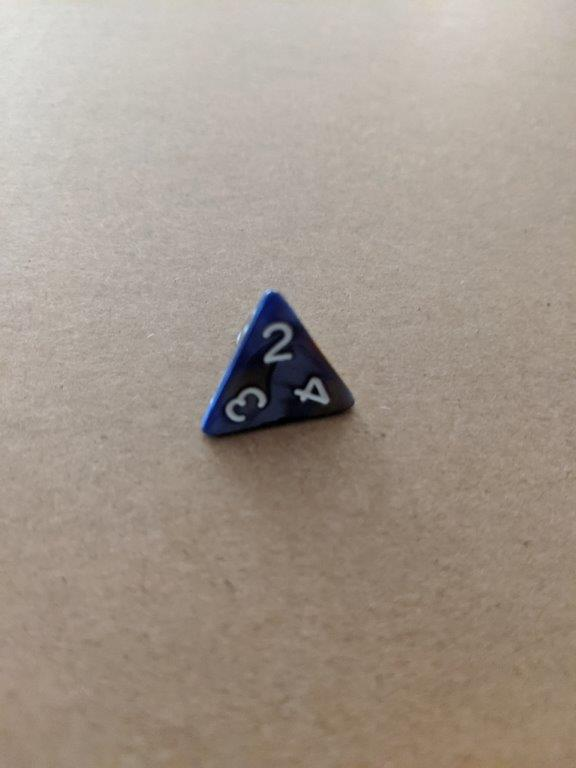d4-2: (191, 284, 359, 452)
